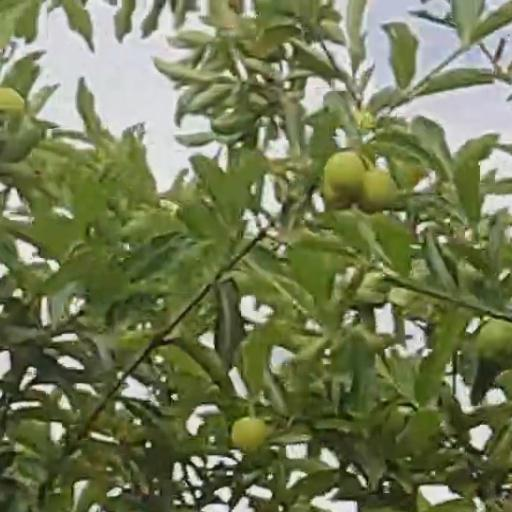acerola_verde: (479, 320, 511, 371), (327, 154, 360, 194), (232, 417, 265, 452), (364, 170, 393, 208), (1, 88, 28, 121)
